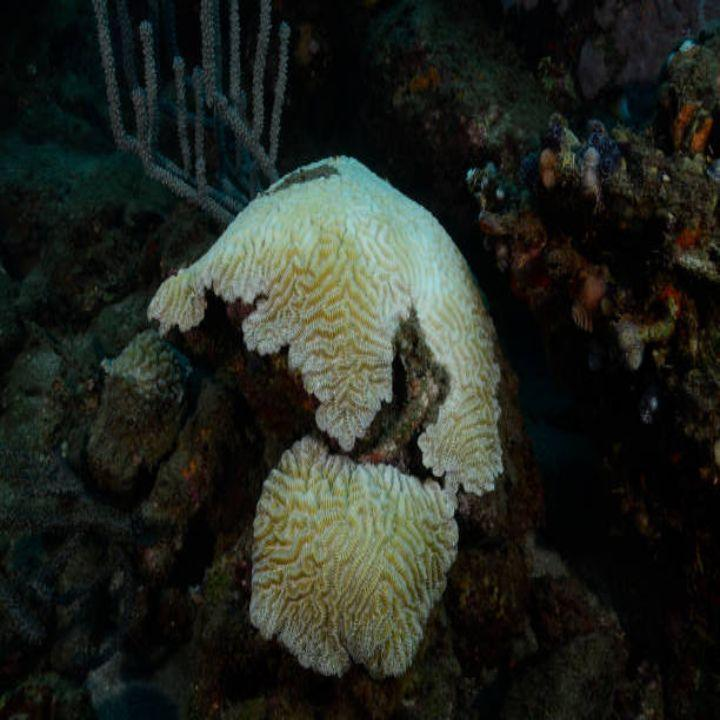Bleached disease: (149, 146, 520, 689)
